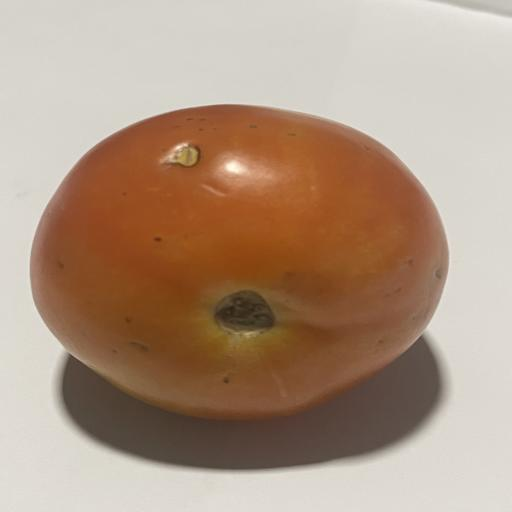unripe: (30, 105, 448, 419)
